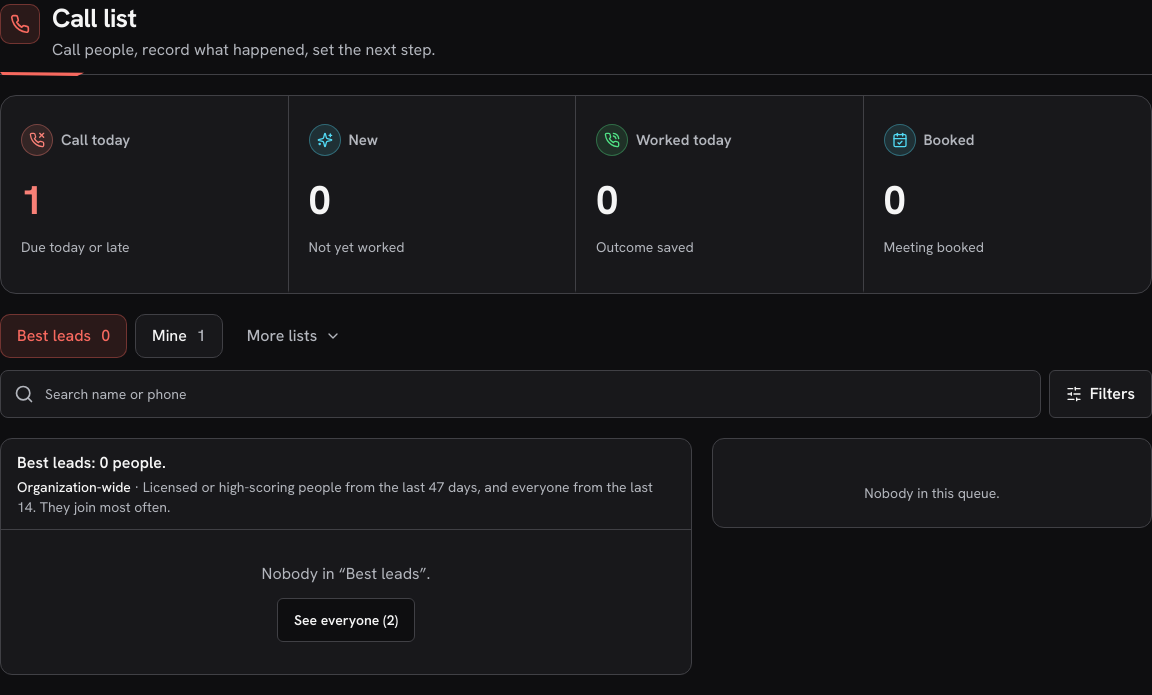
Test: RecruitingWorklist › the open list wears the gold tint and says so with aria-pressed; a tap on another list ticks once
Later steps or results of the test are not shown.
Click the button "Mine 1". click: (179, 336)
box: [135,314,223,358]
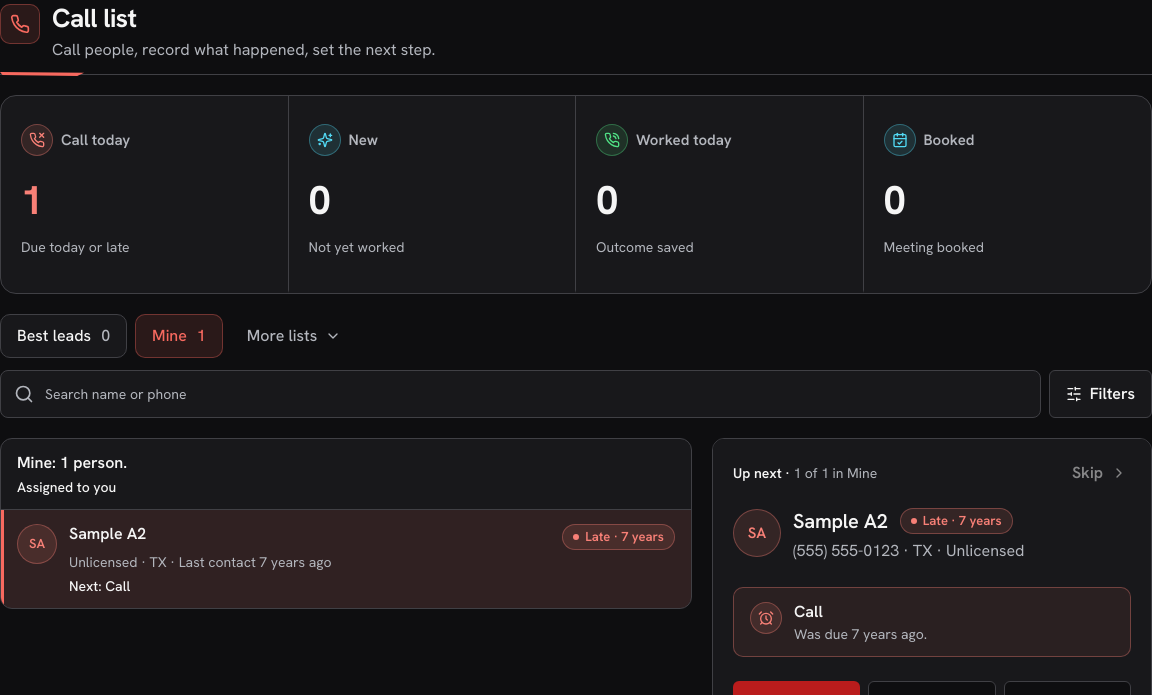
Expected: the button "Mine 1" is pressed, [135,314,223,358]
Expected: the button "Best leads 0" is not pressed, [0,314,127,358]
